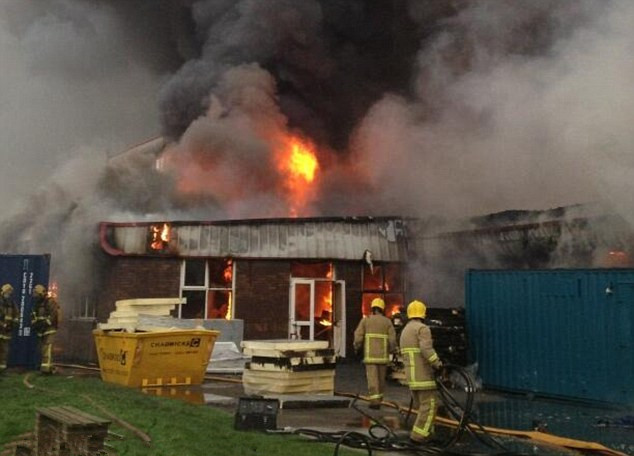fire: (155, 73, 349, 213)
